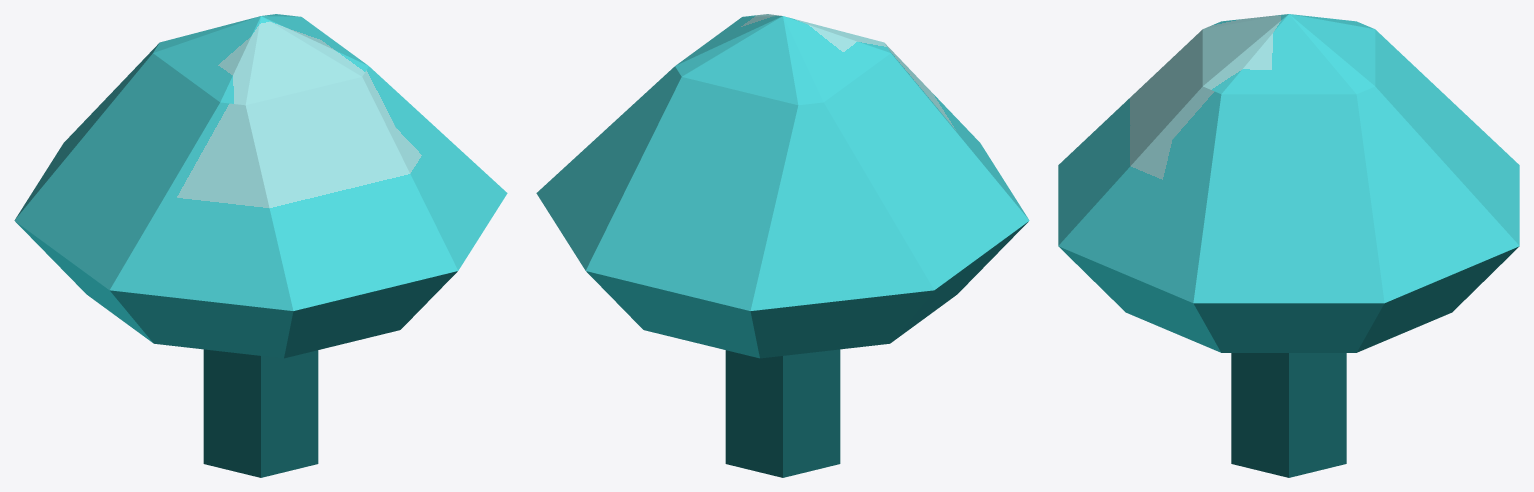
Rendered from magicMushroom.glb.
3 renders of one model, left to right at view 1: azimuth 30°, elevation 25°; view 2: azimuth 150°, elevation 25°; view 3: azimuth 270°, elevation 25°, orthographic.
Visible parts, largest first — view 1: sphere, cylinder; view 2: sphere, cylinder; view 3: sphere, cylinder.
Part boxes in pixels (x1,y1,x2,y2): sphere: (14,14,507,358); cylinder: (203,349,318,477); sphere: (536,14,1029,358); cylinder: (725,349,840,477); sphere: (1058,14,1519,352); cylinder: (1231,353,1346,477).
Size of the model in its own units: 0.375 by 0.3906 by 0.375.
Materials: 1 (1 with a texture image).
